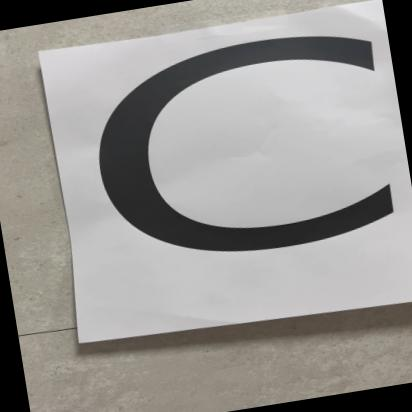seat: (38, 0, 412, 351)
